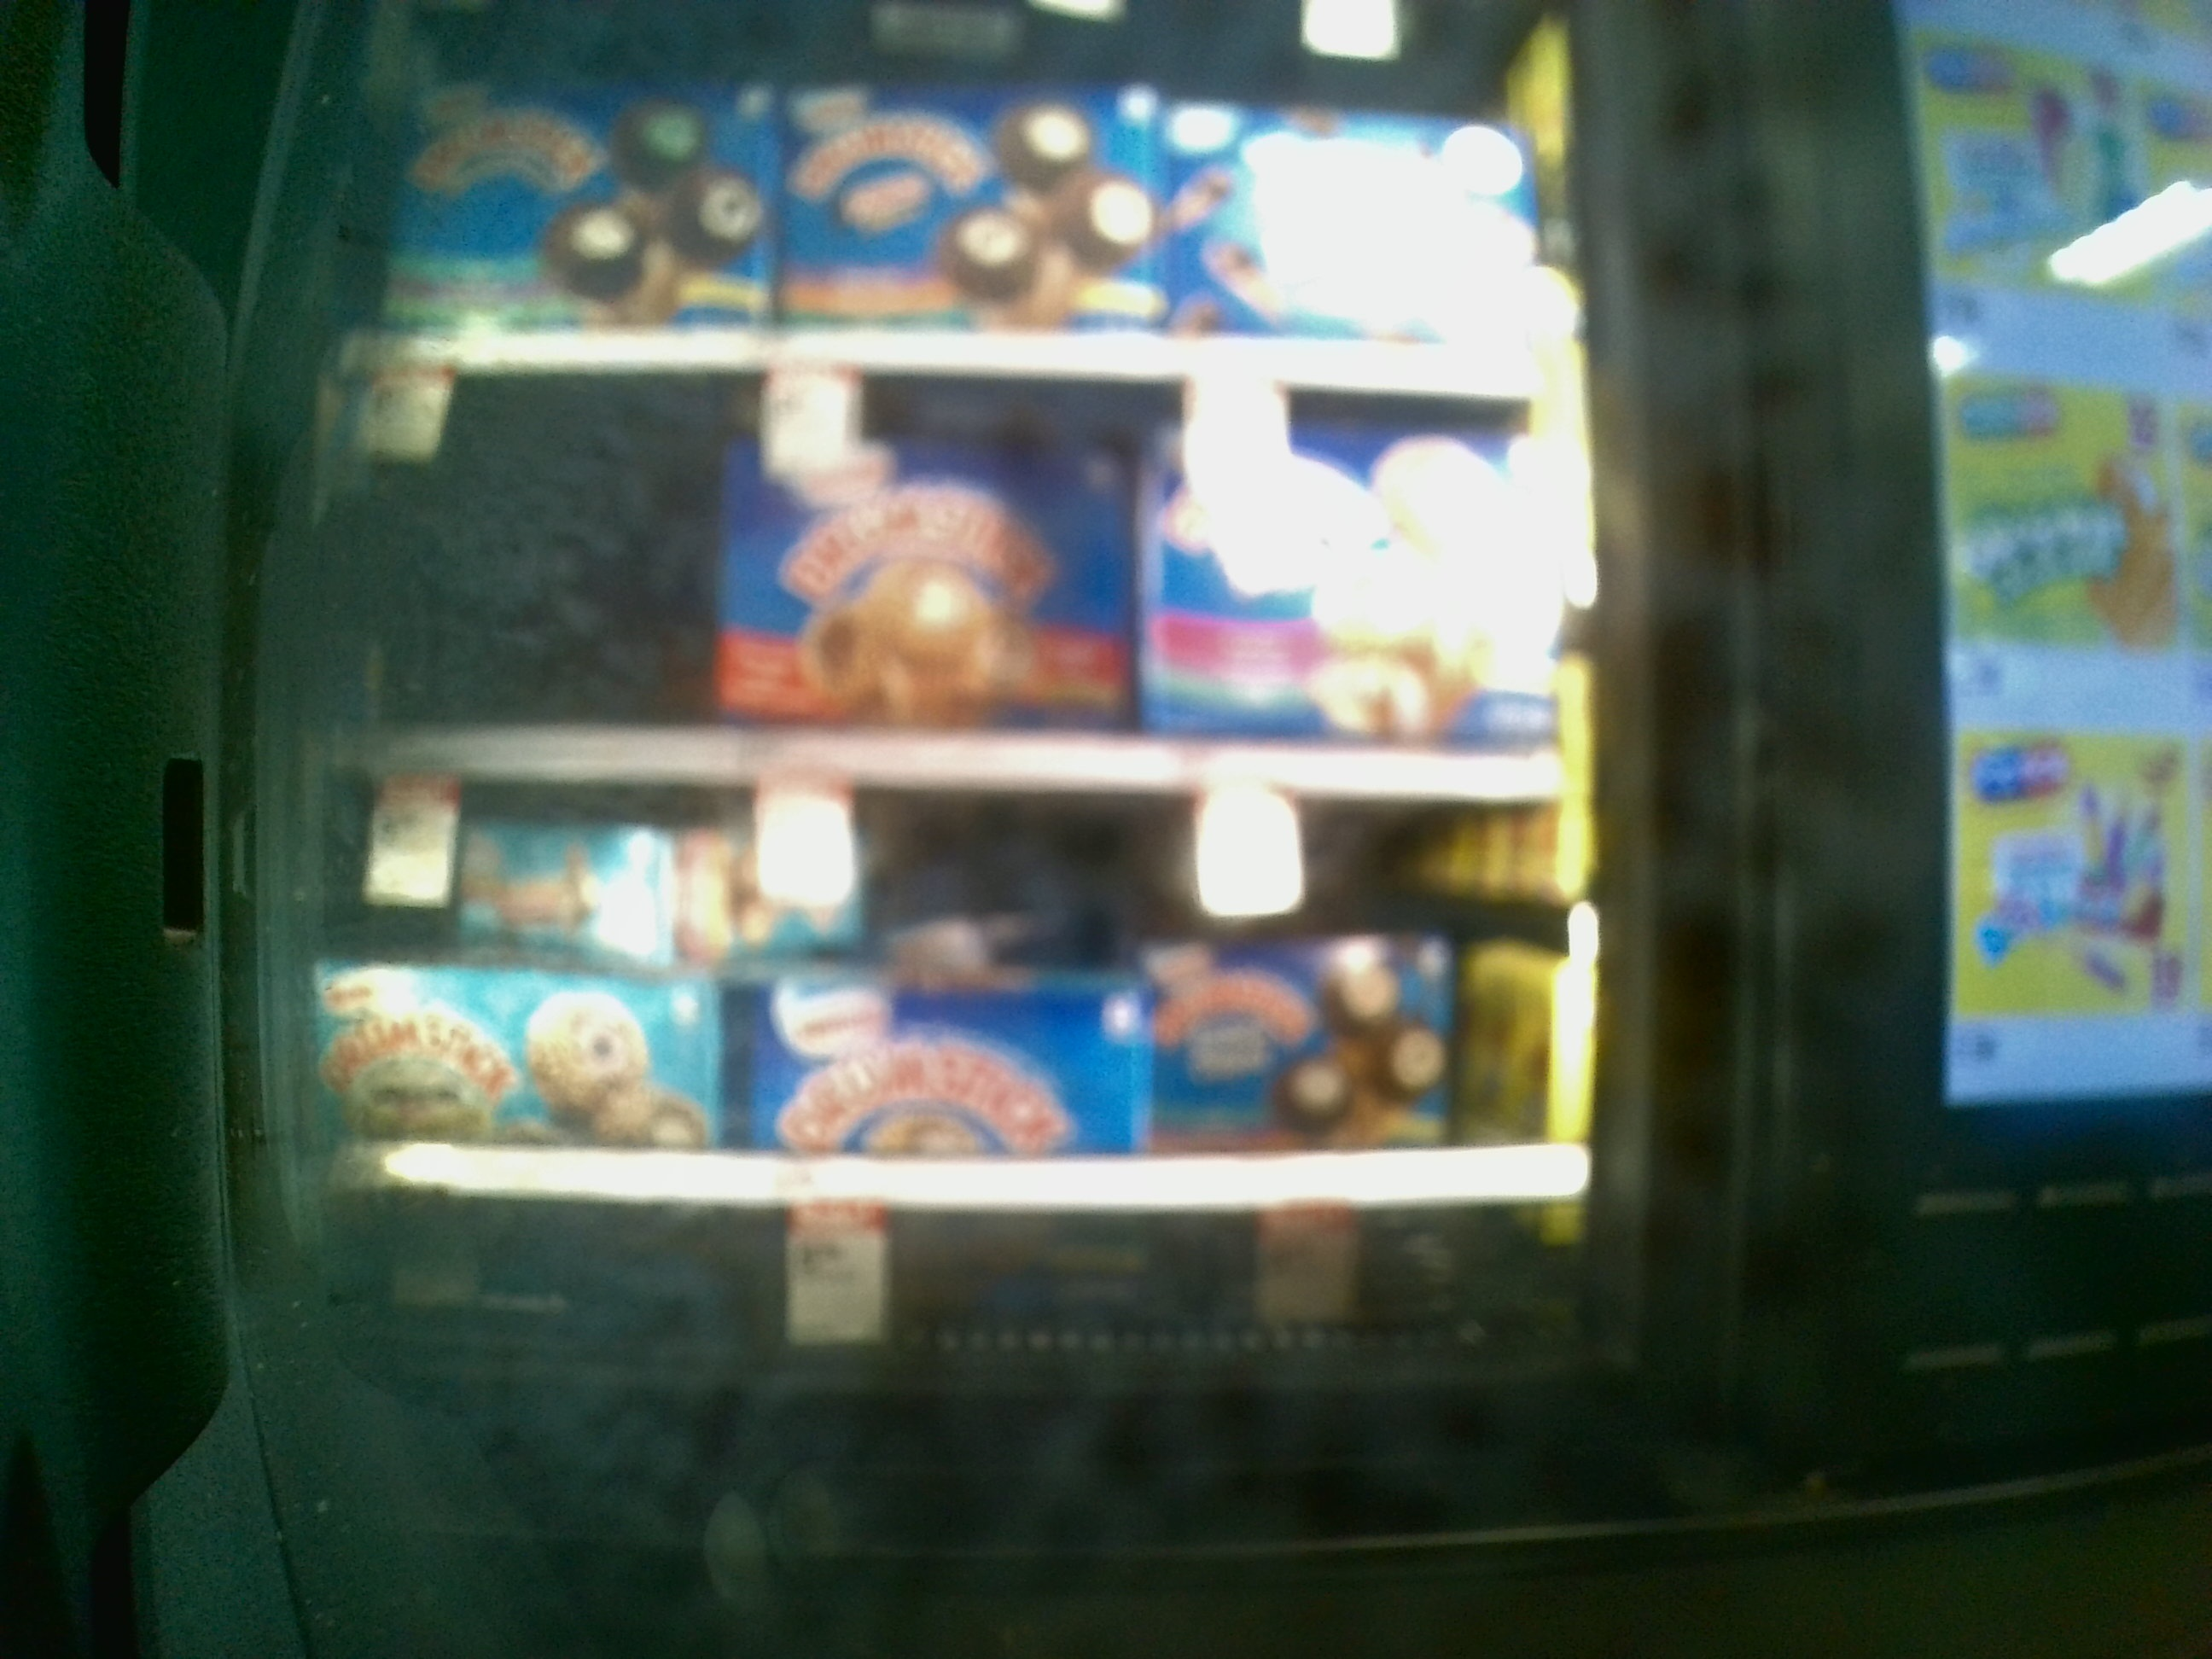shelf: (331, 782, 1616, 1215), (334, 361, 1575, 788)
